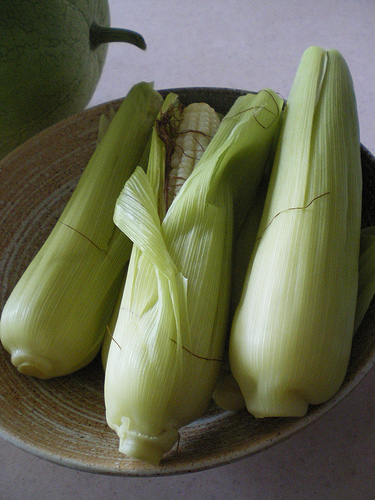corn: (103, 88, 285, 468), (226, 45, 362, 421), (1, 82, 160, 373)
